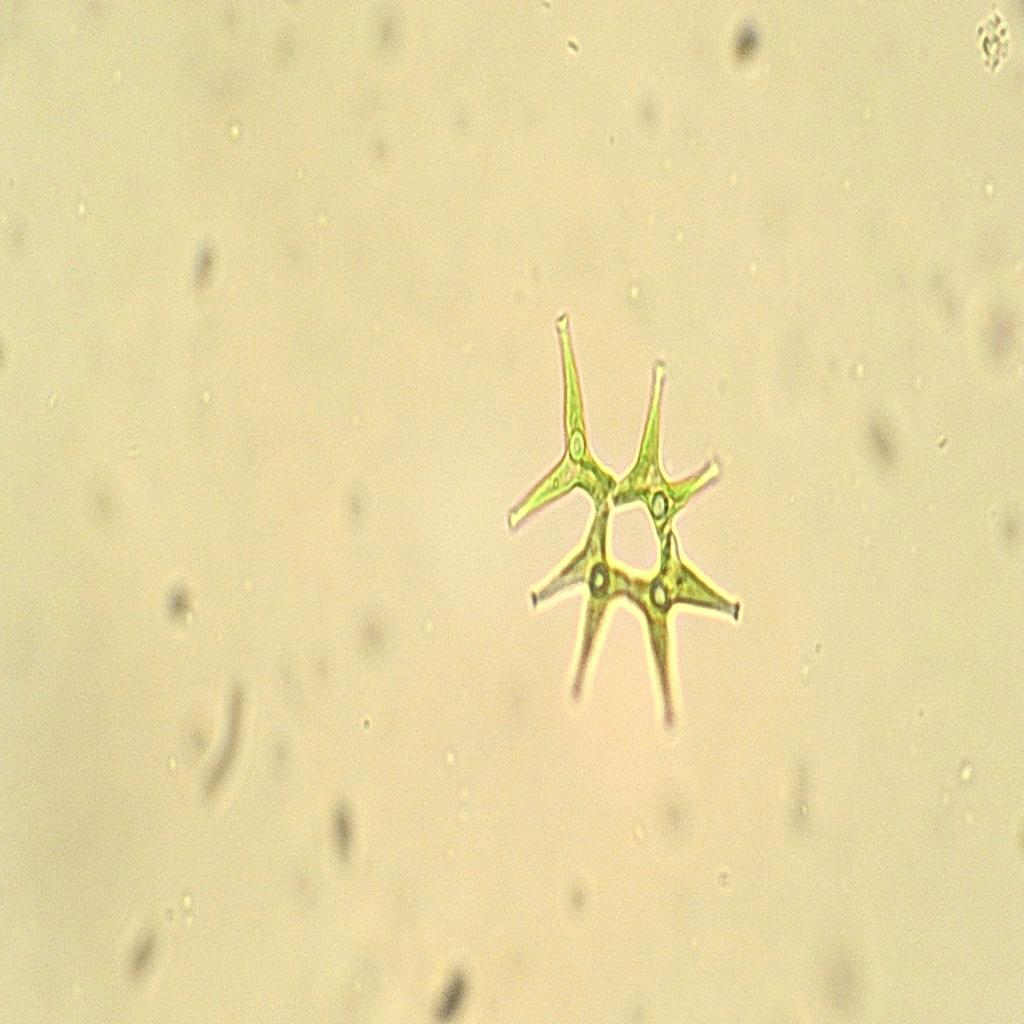Pediastrum_75FI: (503, 303, 747, 737)
